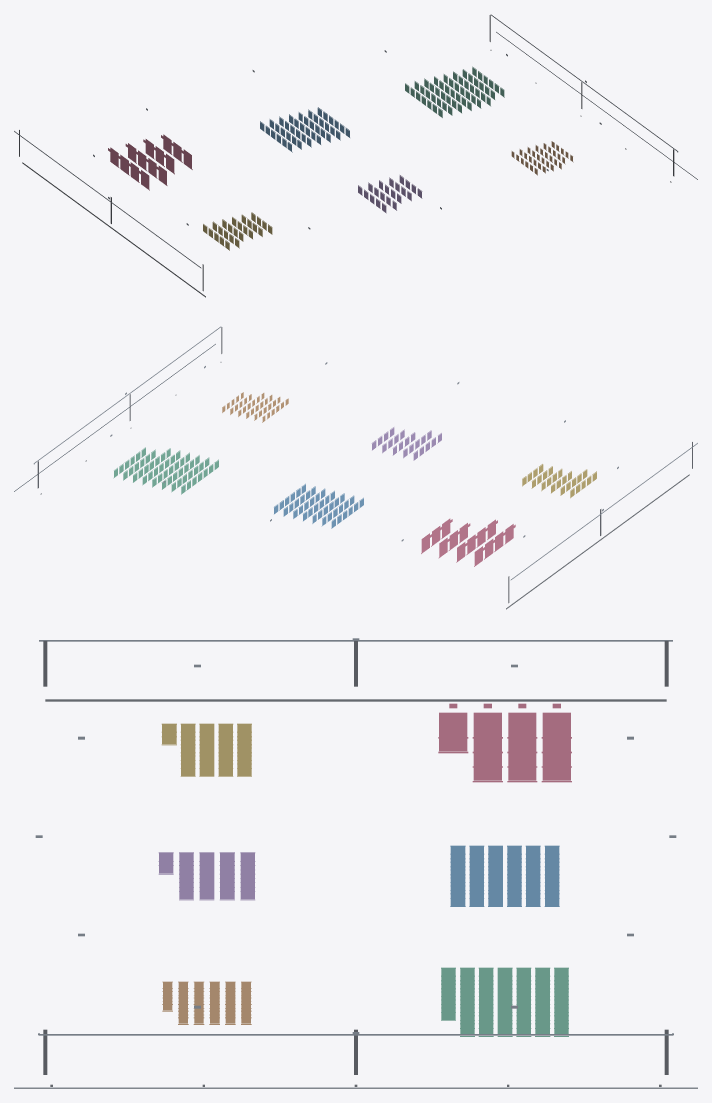
File: fab-plant.gltf
The picture shows the model from 3 angles, top to bottom: view 1: azimuth 30°, elevation 25°; view 2: azimuth 150°, elevation 25°; view 3: azimuth 270°, elevation 25°; orthographic projection. The views are drawn at different scales.
Parts seen in each view (by area): view 1: AMHS_RAIL; view 2: AMHS_RAIL; view 3: AMHS_RAIL, UTIL_PIPE, FLOOR, STR, EUV_14, EUV_04, EUV_08, EUV_12.
Part boxes in pixels (x1,y1,x2,y2): AMHS_RAIL: [14, 14, 678, 268]; AMHS_RAIL: [33, 326, 697, 580]; AMHS_RAIL: [38, 640, 673, 1035]; UTIL_PIPE: [45, 699, 666, 1086]; FLOOR: [14, 1087, 697, 1088]; STR: [43, 641, 668, 1074]; EUV_14: [438, 718, 468, 753]; EUV_04: [541, 747, 571, 782]; EUV_08: [507, 747, 537, 782]; EUV_12: [472, 747, 502, 782].
Bounding box in the file's own units: 305 × 20.7 × 218.
